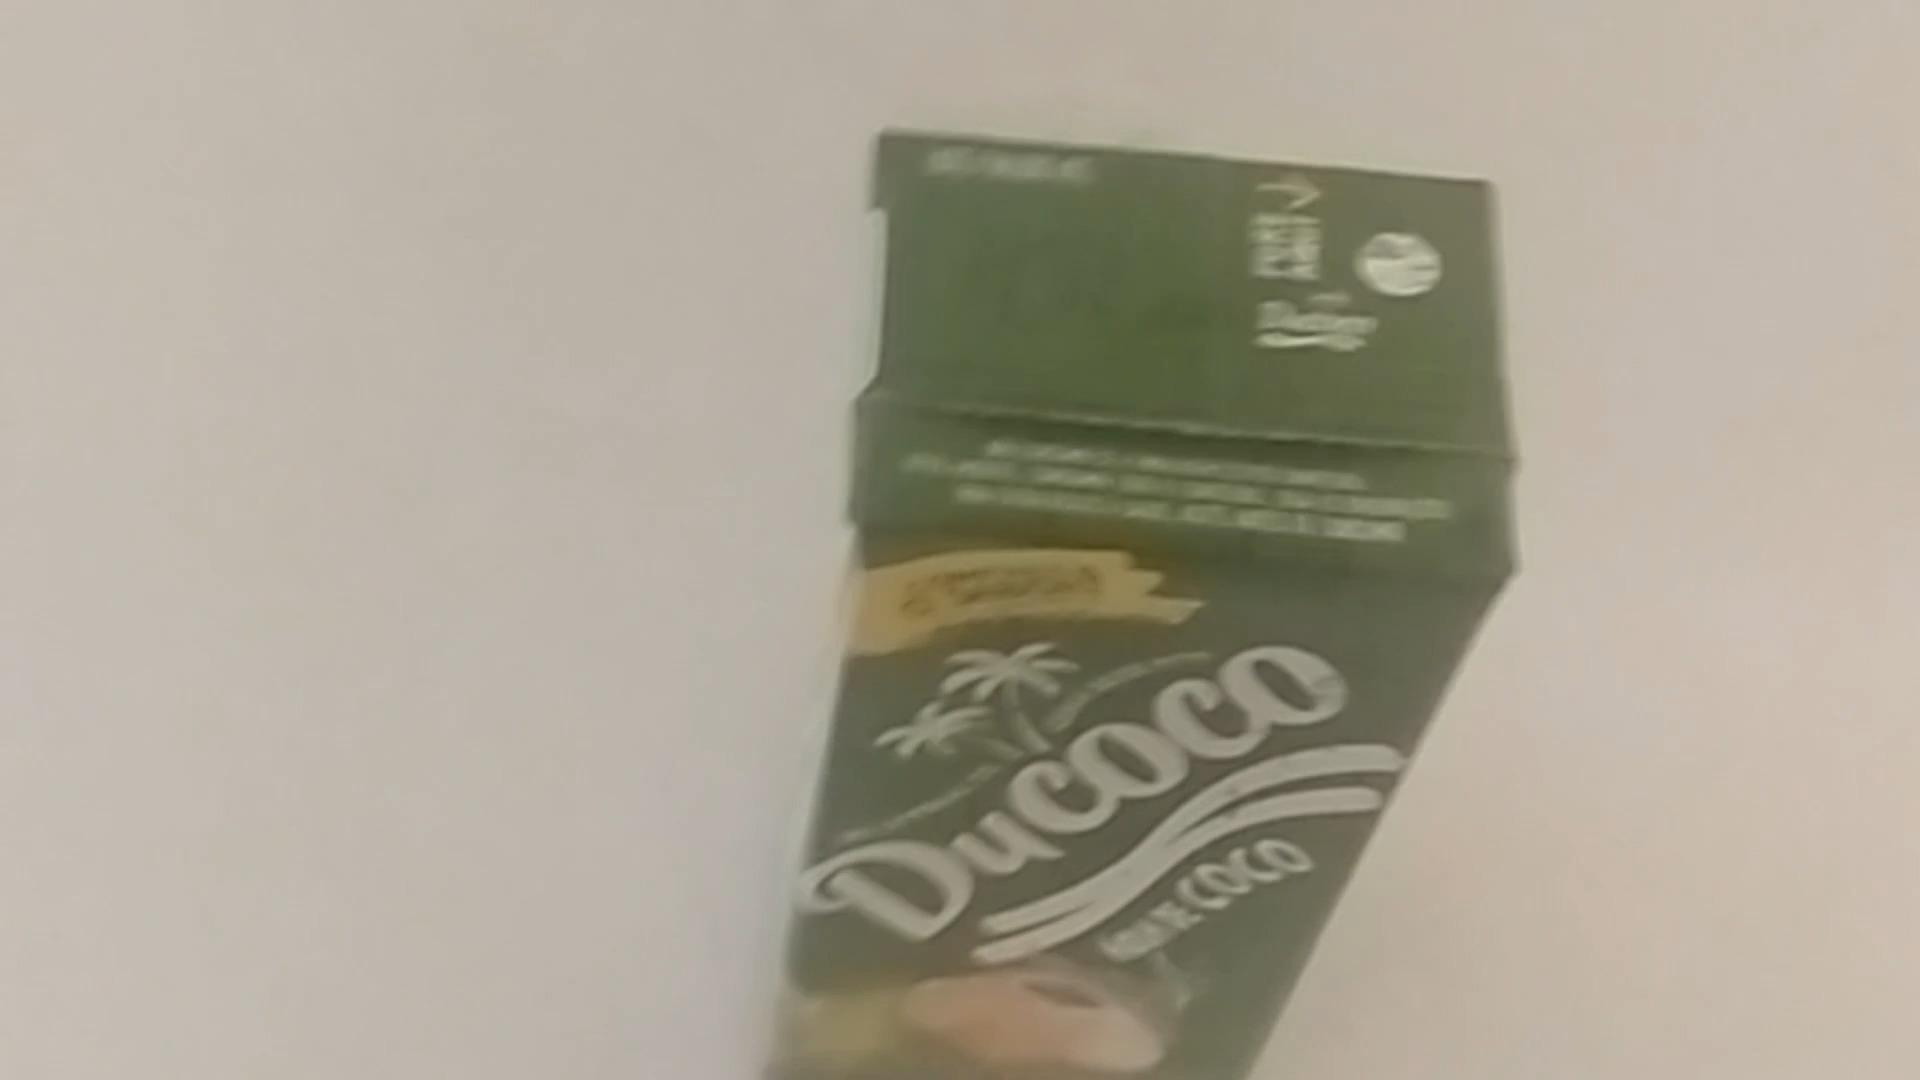coco: (744, 127, 1520, 1080)
